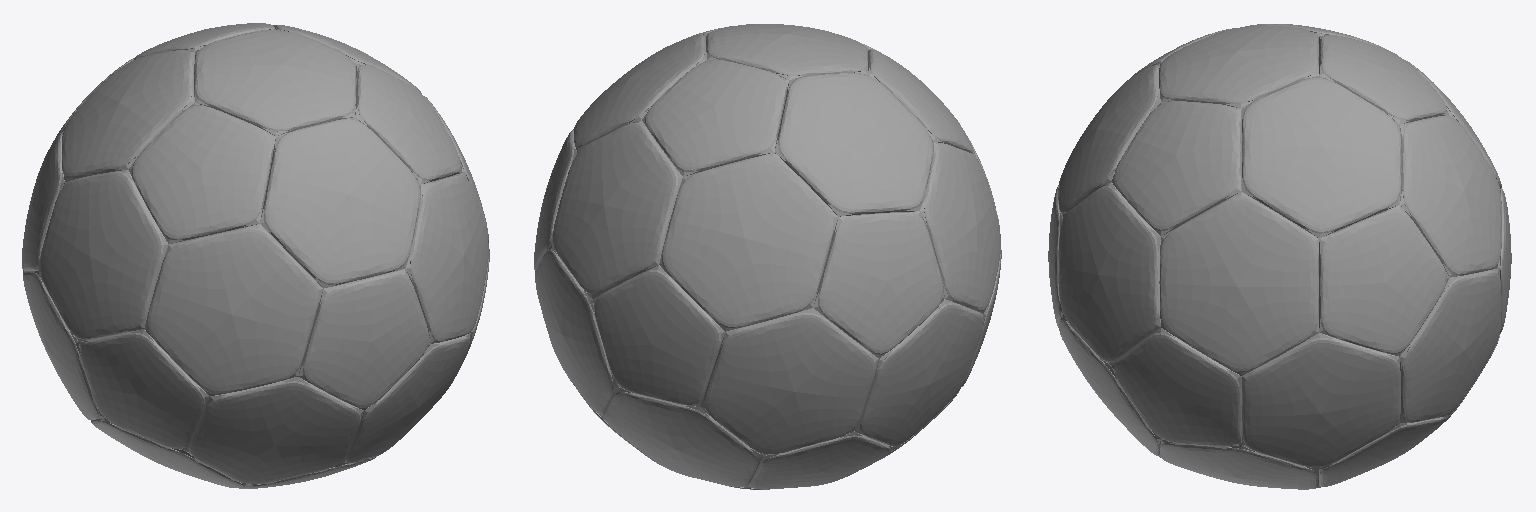
File: ball.obj
3 views of the same model, side by side, from view 1: azimuth 30°, elevation 25°; view 2: azimuth 150°, elevation 25°; view 3: azimuth 270°, elevation 25° (orthographic).
Parts seen in each view (by area): view 1: Platonic.002; view 2: Platonic.002; view 3: Platonic.002.
Boxes of the visible parts, <box> form: Platonic.002: <box>22,23,489,488</box>; Platonic.002: <box>534,24,1001,489</box>; Platonic.002: <box>1048,24,1511,489</box>.
Bounding box in the file's own units: 1.29 × 1.28 × 1.28.